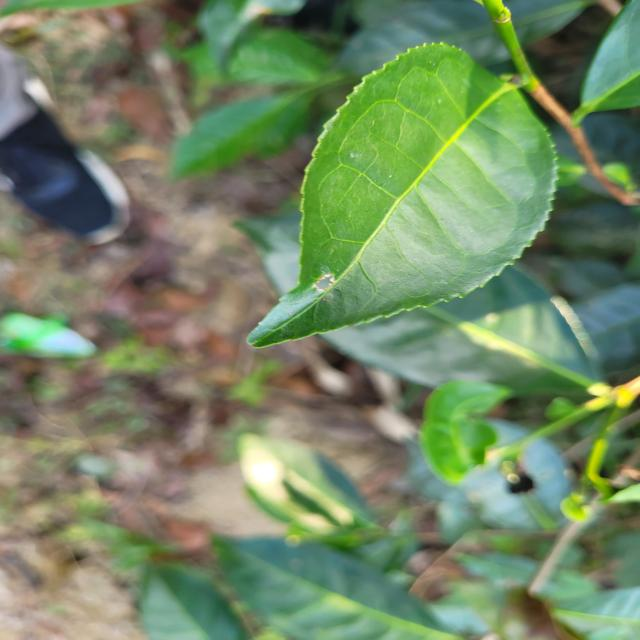Category D(7+ days, Not for Tea): (239, 24, 572, 352)
